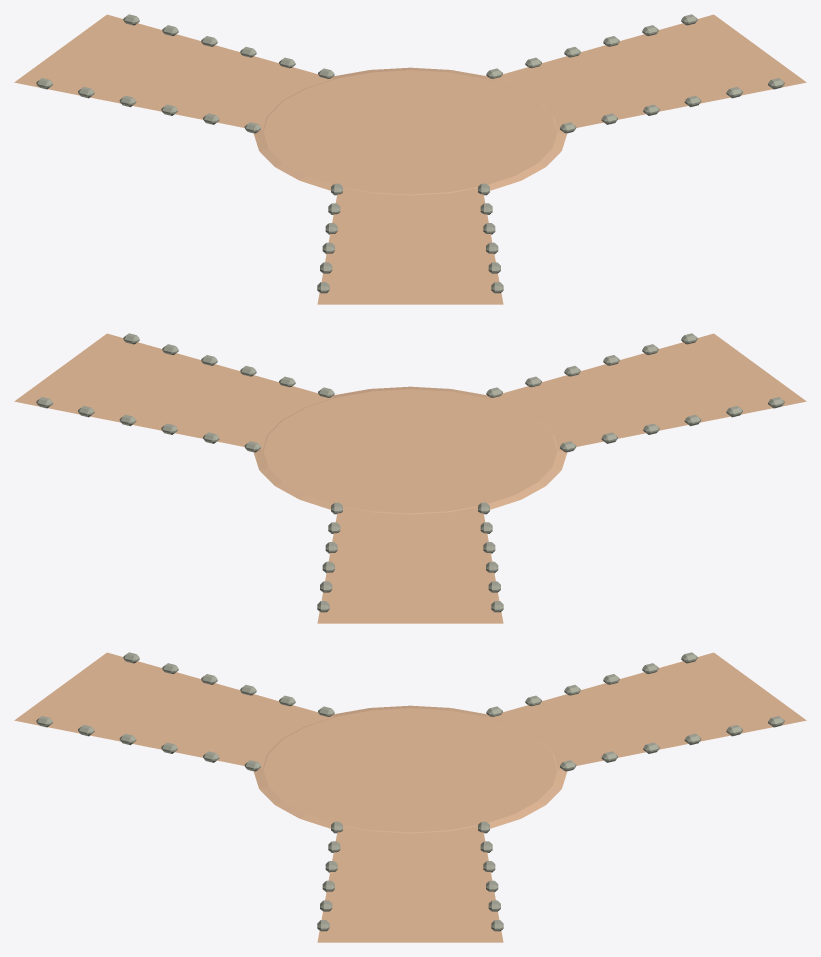
3 renders of one model, top to bottom at view 1: azimuth 30°, elevation 25°; view 2: azimuth 150°, elevation 25°; view 3: azimuth 270°, elevation 25°, orthographic.
Parts seen in each view (by area): view 1: BA-0078 batched; view 2: BA-0078 batched; view 3: BA-0078 batched.
Boxes of the visible parts, left/top/right/bottom form: BA-0078 batched: left=14, top=14, right=806, bottom=304; BA-0078 batched: left=14, top=333, right=806, bottom=623; BA-0078 batched: left=14, top=652, right=806, bottom=942.
Bounding box in the file's own units: 2.8 × 0.035 × 3.24.
